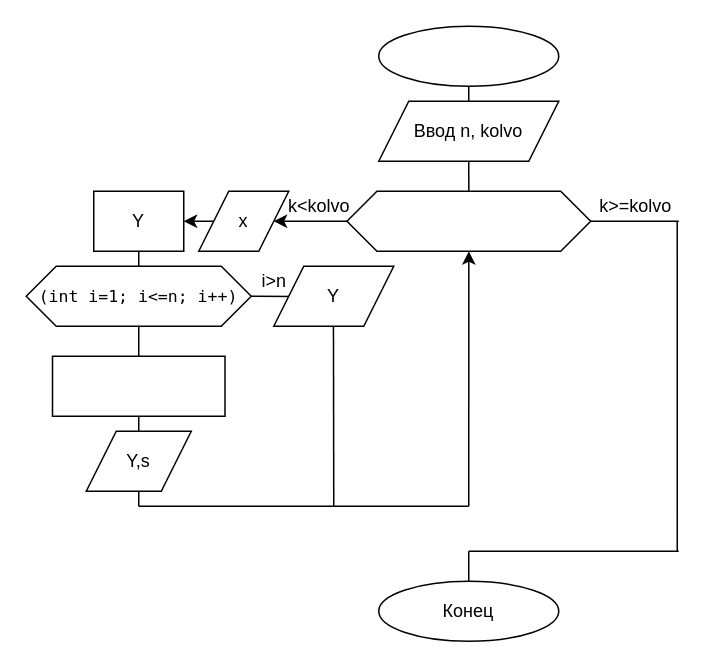
The diagram is 707 pixels wide and 668 high, and some of its shapes have lost their labels. The shapes that lost their labels are listed below. From the top down, each one's centre as x and y in pixels, then its label:
At point 468,55: "Начало".
At point 468,220: "(k=0; k<kolvo; k++)".
At point 138,385: "chisl,znam,summa,s".
